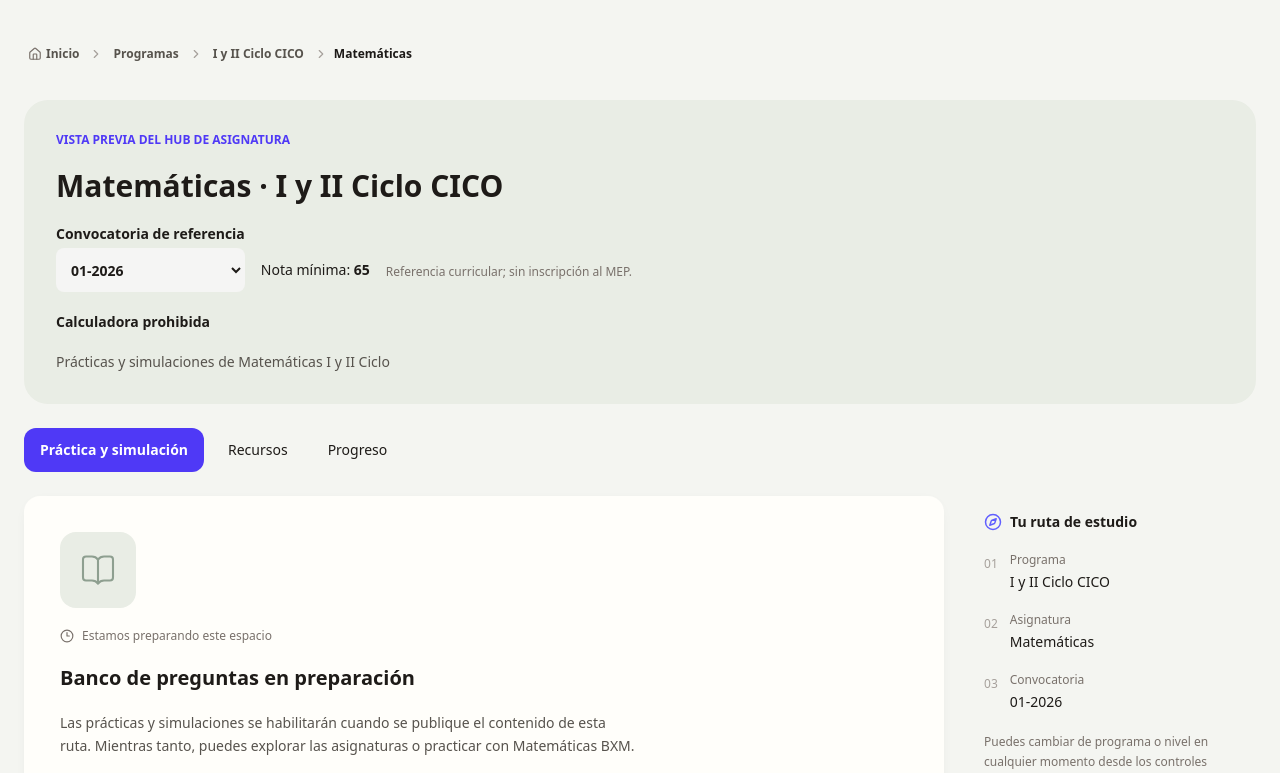
Test: SubjectHubPage › renders usable subject structure when cico is active
Expected: the heading "Matemáticas · I y II Ciclo CICO" is shown, [56,165,503,206]
Click the tab "Recursos" at (258, 450), box [212,428,304,472]
(page scrolled)
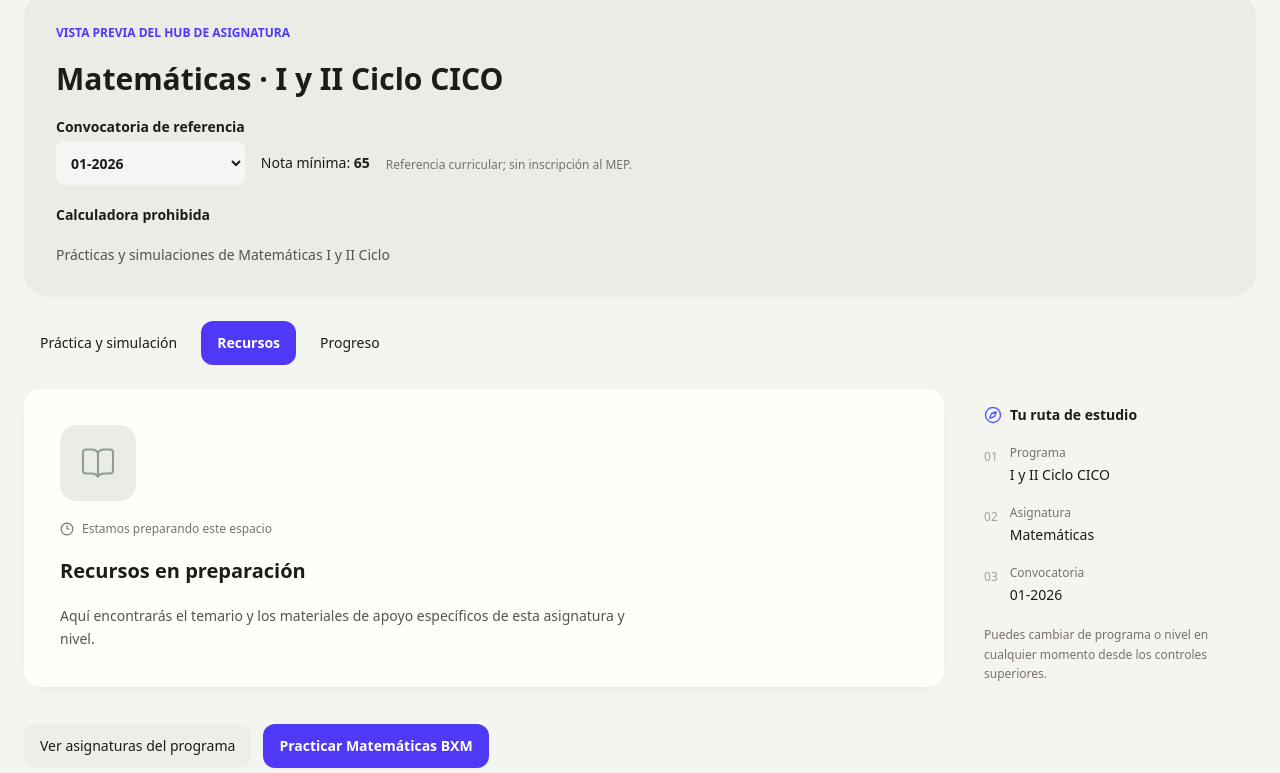
Expected: the button "Ver asignaturas del programa" is shown, [24,724,251,768]
Now the heading "Recursos en preparación" is shown, box [60,557,306,584]
